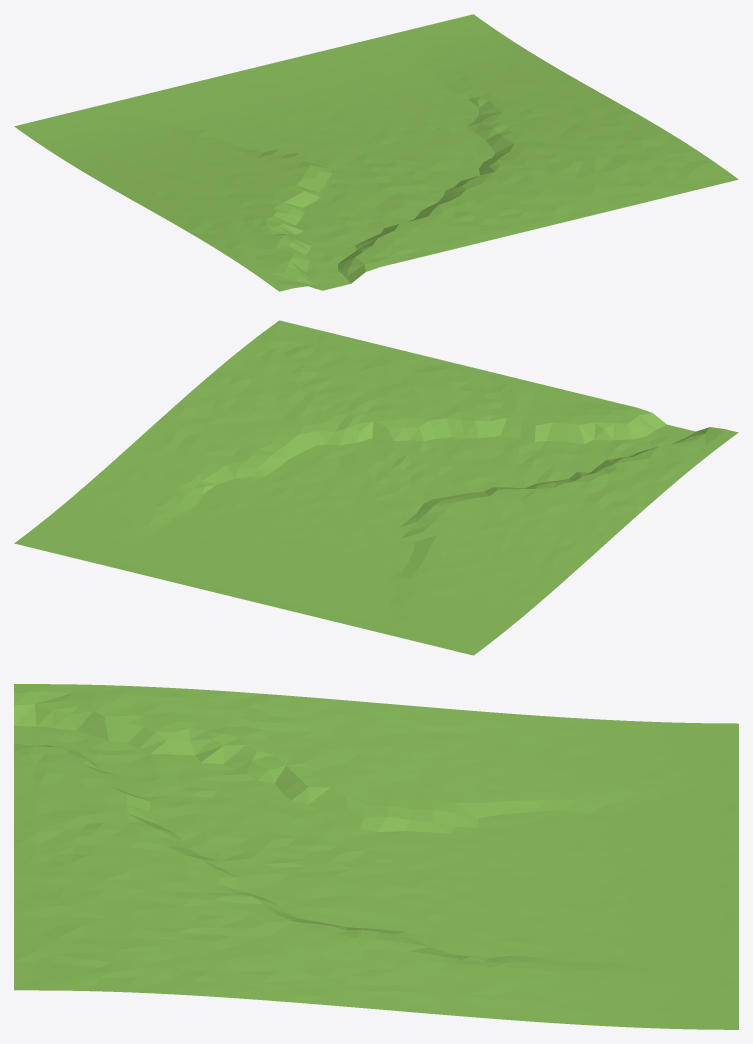
File: MT_River_End_L_c_01_LOD.fbx
3 views of the same model, one above another, from view 1: azimuth 30°, elevation 25°; view 2: azimuth 150°, elevation 25°; view 3: azimuth 270°, elevation 25° (orthographic). The views are drawn at different scales.
Visible parts, largest first — view 1: MT_River_End_L_c_01_LOD0; view 2: MT_River_End_L_c_01_LOD0; view 3: MT_River_End_L_c_01_LOD0.
Boxes of the visible parts, x1,y1,x2,y2 form: MT_River_End_L_c_01_LOD0: [14, 14, 738, 291]; MT_River_End_L_c_01_LOD0: [14, 320, 738, 655]; MT_River_End_L_c_01_LOD0: [14, 684, 738, 1029].
Size of what is drawn, in the model's own units: 10000 by 611 by 10000.
